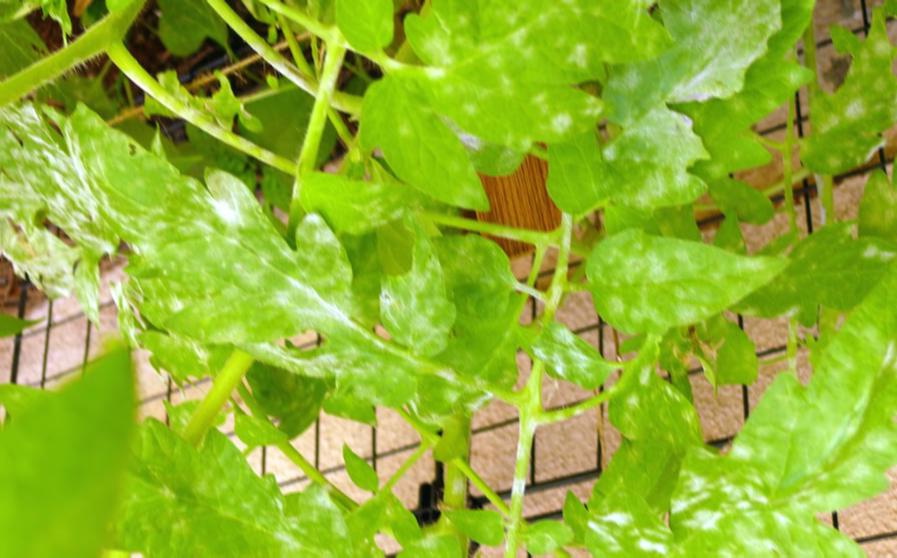Tomato mold leaf: (70, 99, 450, 410), (640, 110, 897, 558), (345, 0, 684, 213), (75, 435, 400, 558), (565, 233, 812, 338), (509, 320, 601, 391)
